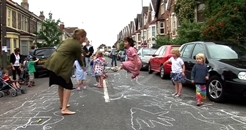Person: (40, 27, 96, 115), (190, 55, 212, 103)
